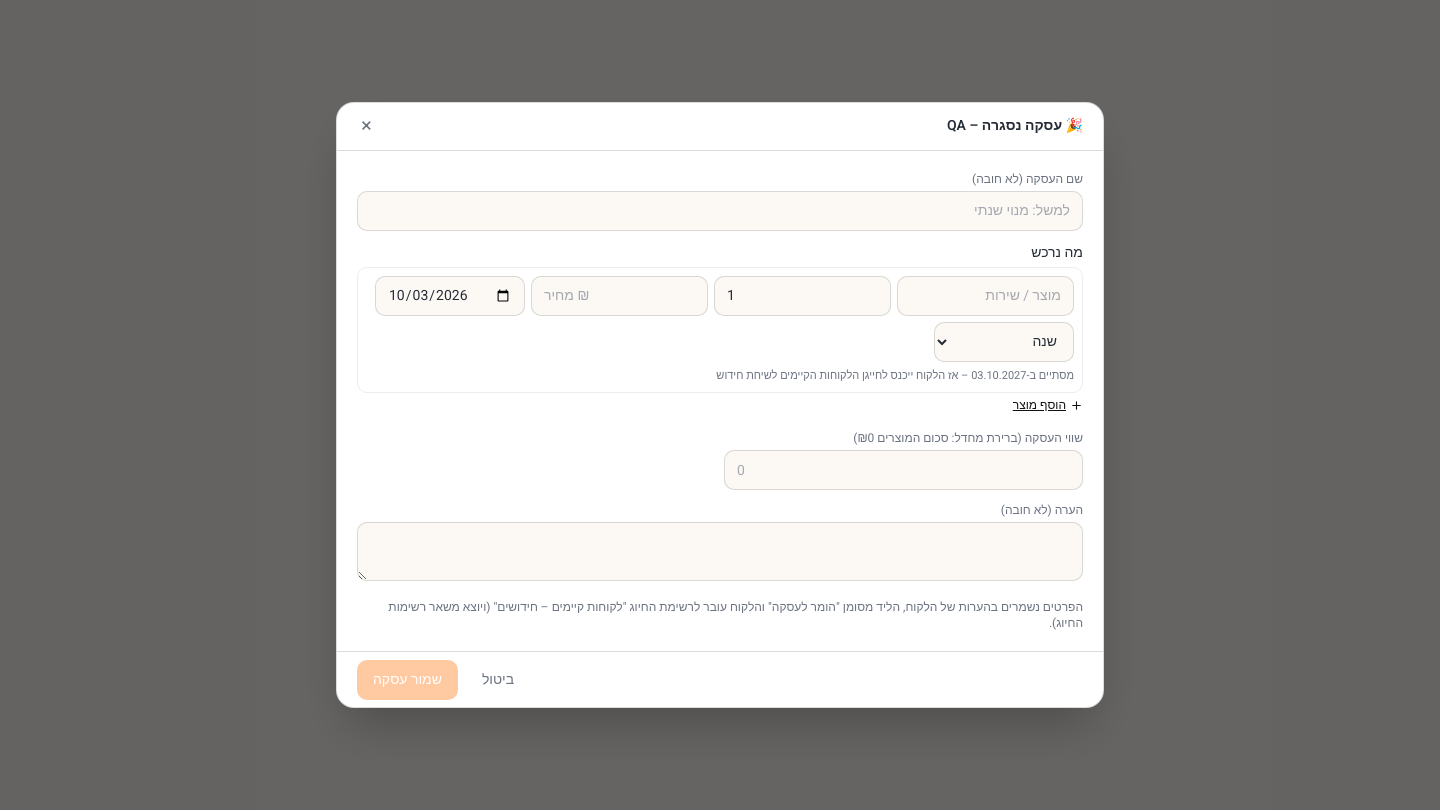
Test: clearing a purchase date keeps the form usable and prevents saving an incomplete product
The image size is (1440, 810).
Type "Monthly service" into the field labelled "מוצר" at x=986, y=296, box [897,276,1074,316]
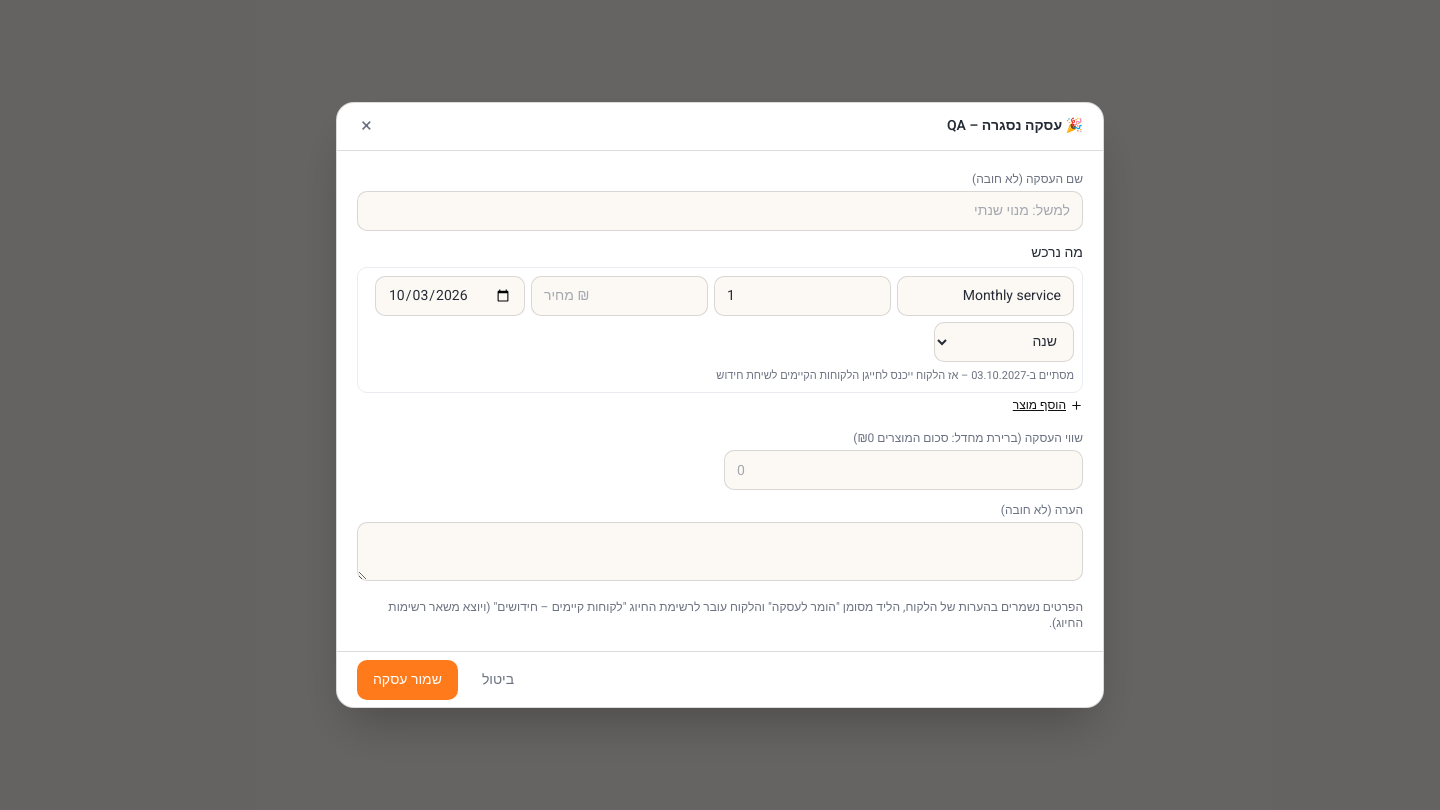
Clear the date field named "תאריך רכישה" at x=450, y=296, box [375,276,525,316]
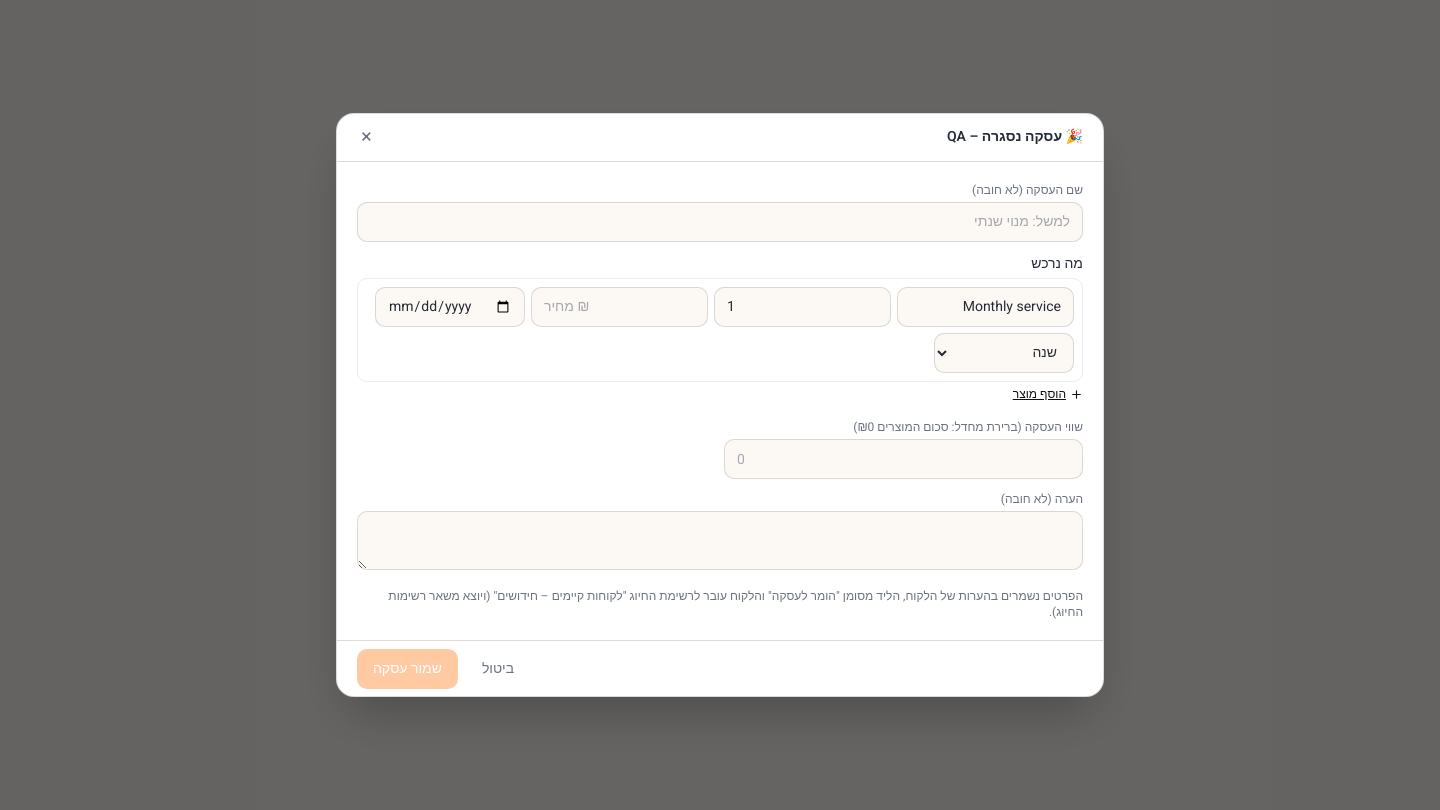
Expected: the element with test id "deal-close" is shown, [357,182,1083,620]
Expected: the button with test id "deal-close-save" is disabled, [357,649,458,689]
